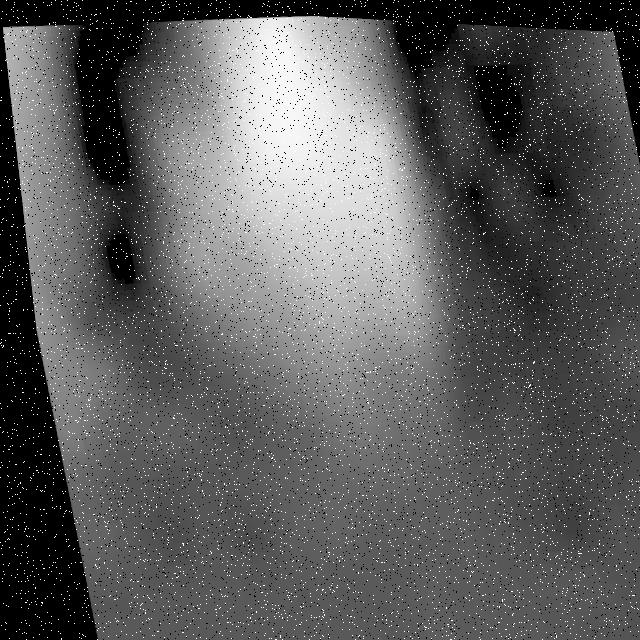person: (134, 6, 460, 446), (3, 21, 154, 485)
